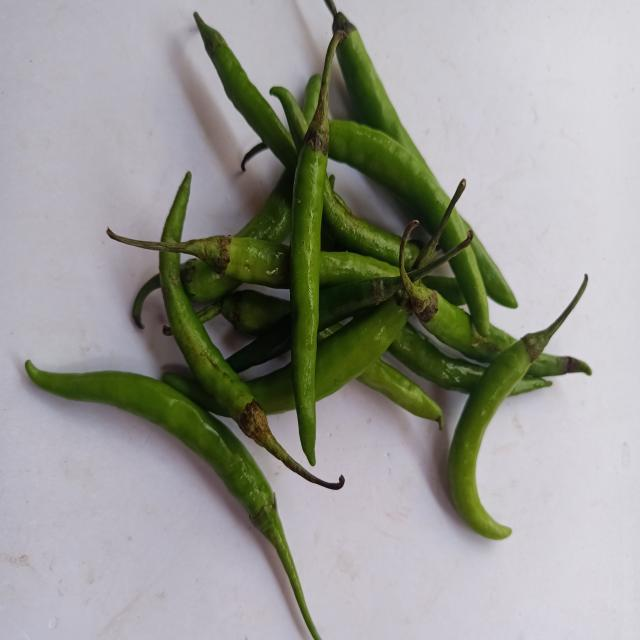Green Chilly: (24, 360, 320, 640), (159, 252, 344, 490), (449, 274, 589, 540), (290, 28, 346, 465), (328, 119, 450, 234), (452, 246, 490, 336), (161, 171, 191, 242), (440, 211, 468, 251)
